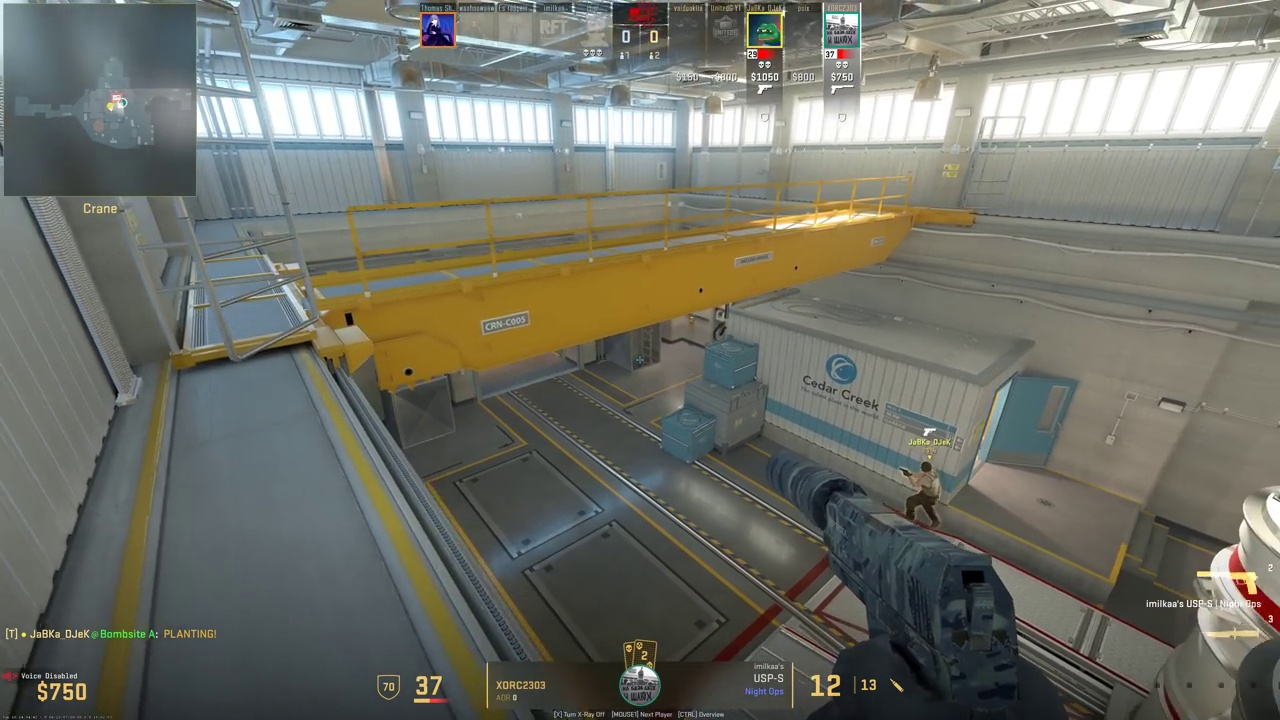Terrorist: (905, 461, 941, 528)
